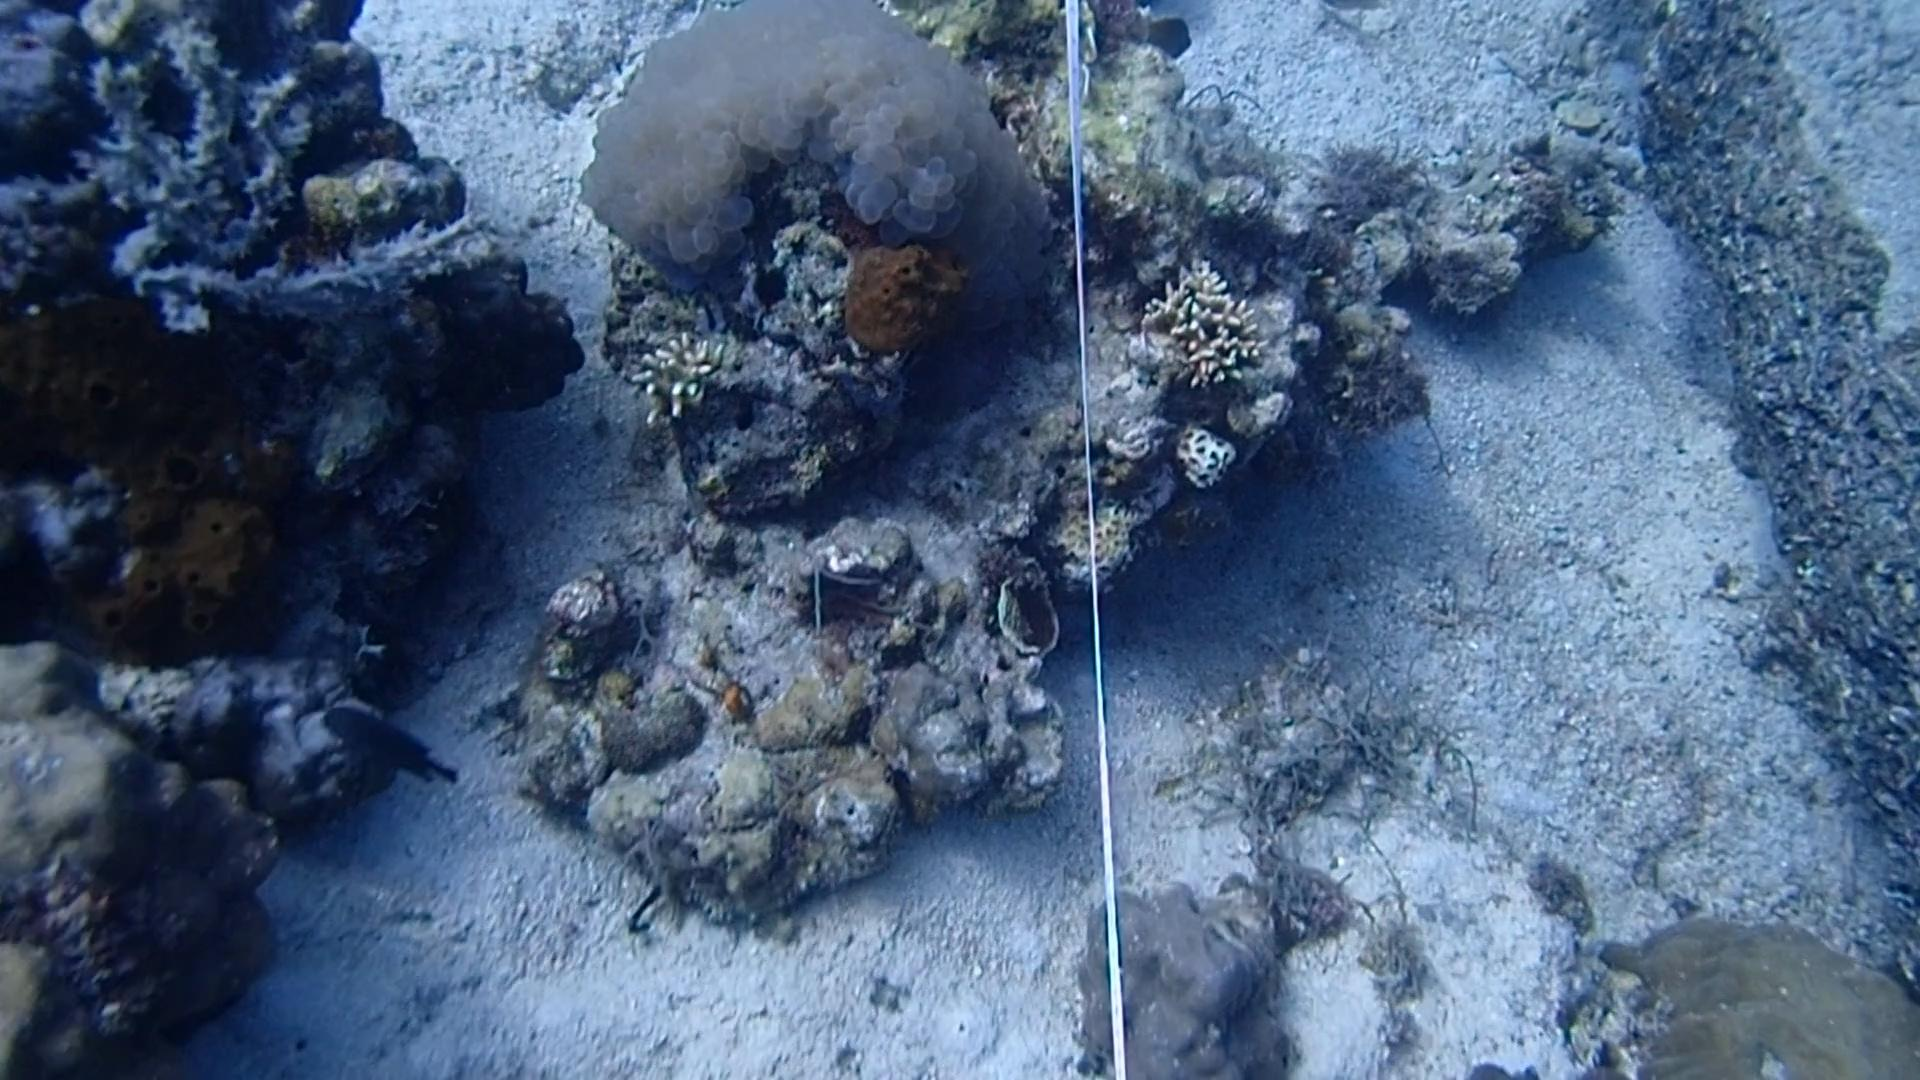Big Dark Blue Fish: (307, 686, 463, 807)
